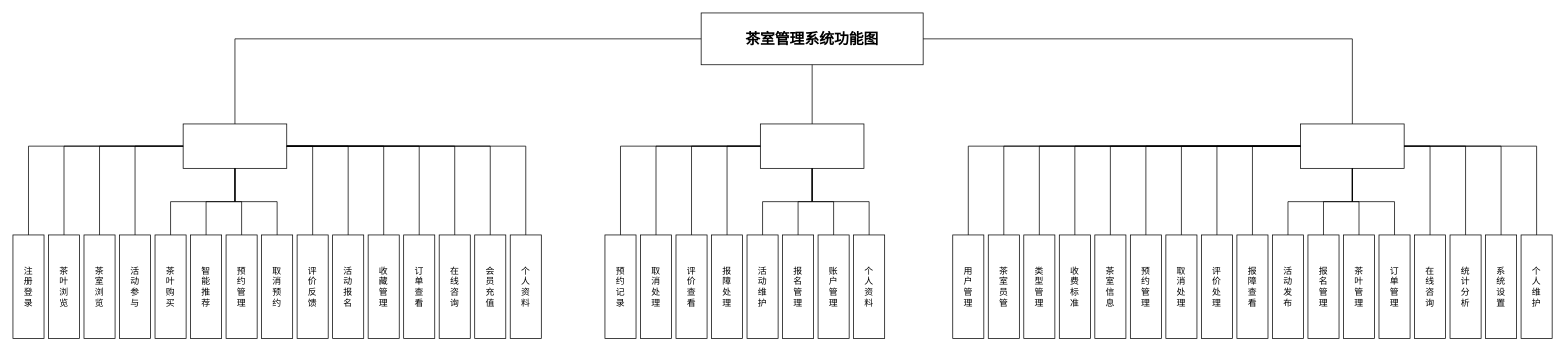
This 1565x352 diagram has some shape labels left out. Each missing label, with the centre of its shape:
"用户" belongs at (234,145).
"管理员" belongs at (1352,145).
"茶室员" belongs at (812,145).
